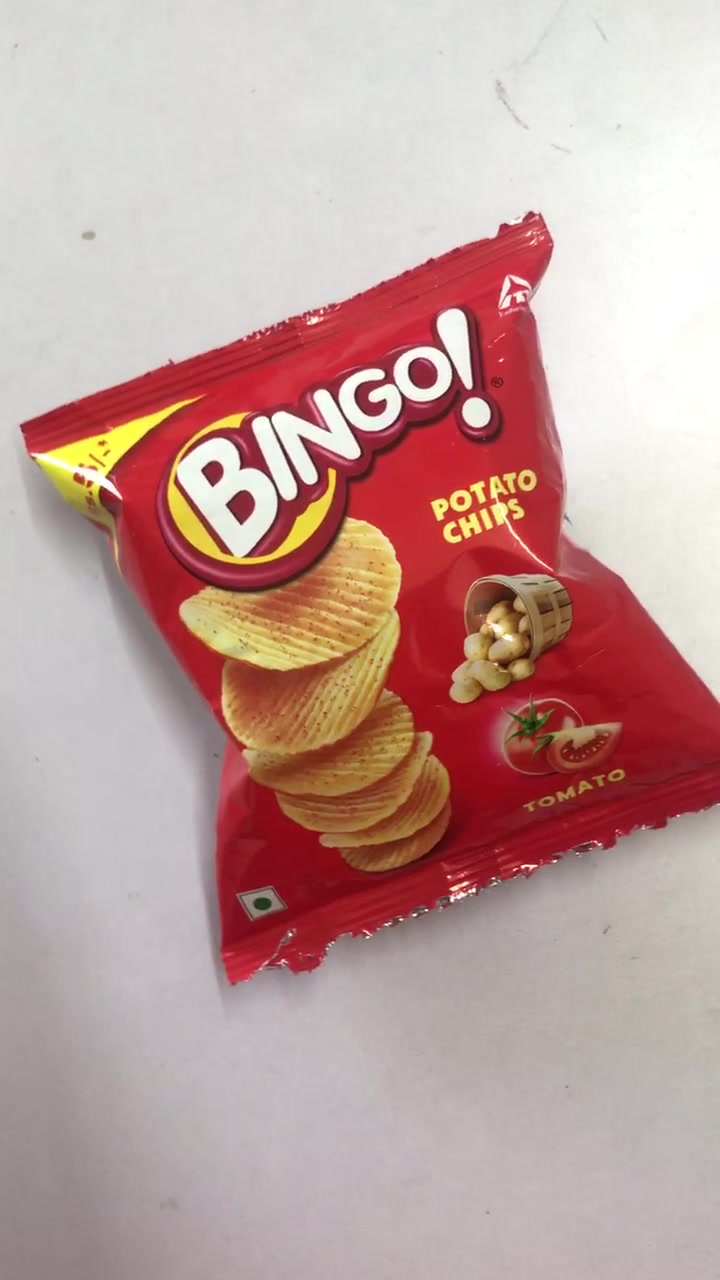Bingo: (35, 267, 720, 955)
